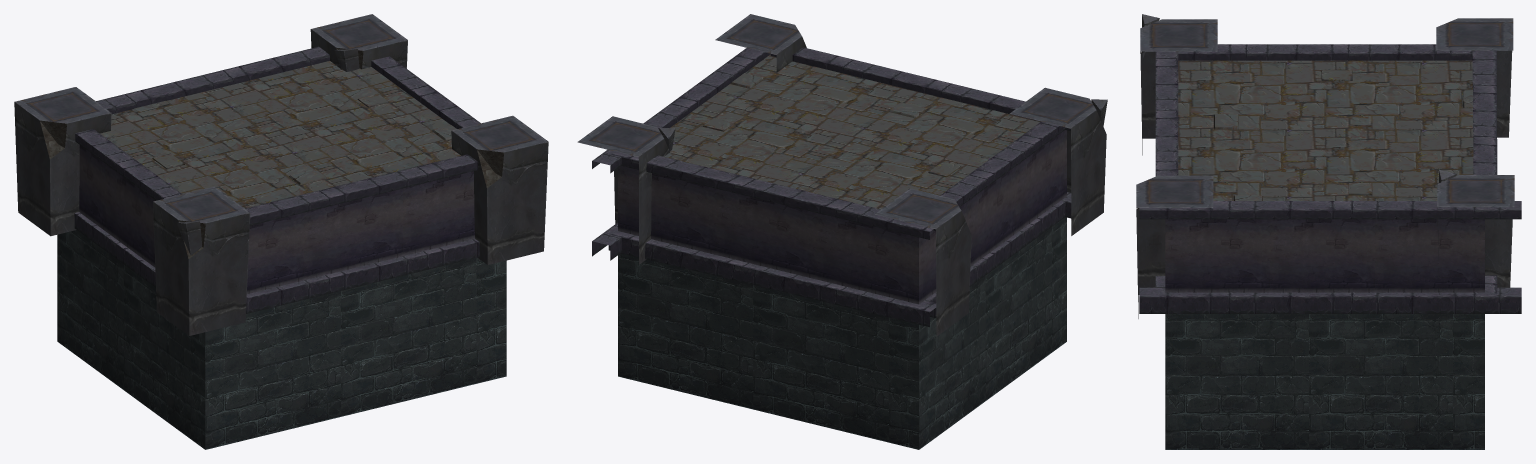
Rendered from terrain_section02_guanka12d.FBX.
The picture shows the model from 3 angles, left to right: view 1: azimuth 30°, elevation 25°; view 2: azimuth 150°, elevation 25°; view 3: azimuth 270°, elevation 25°; orthographic projection. The views are drawn at different scales.
Visible parts, largest first — view 1: terrain_section02_guanka12d; view 2: terrain_section02_guanka12d; view 3: terrain_section02_guanka12d.
Part boxes in pixels (left/top/right/bottom): terrain_section02_guanka12d: left=14, top=14, right=548, bottom=449; terrain_section02_guanka12d: left=577, top=14, right=1107, bottom=449; terrain_section02_guanka12d: left=1136, top=14, right=1521, bottom=449.
Size of the model in its own units: 2443 by 2086 by 1560.
